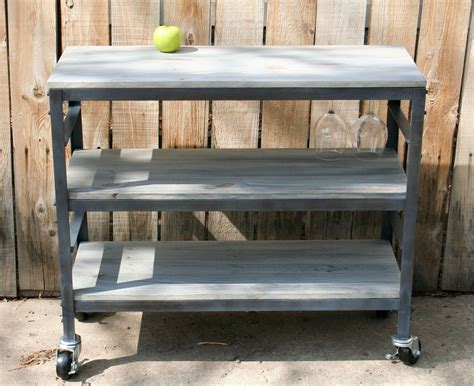Carts: (45, 44, 428, 377)
